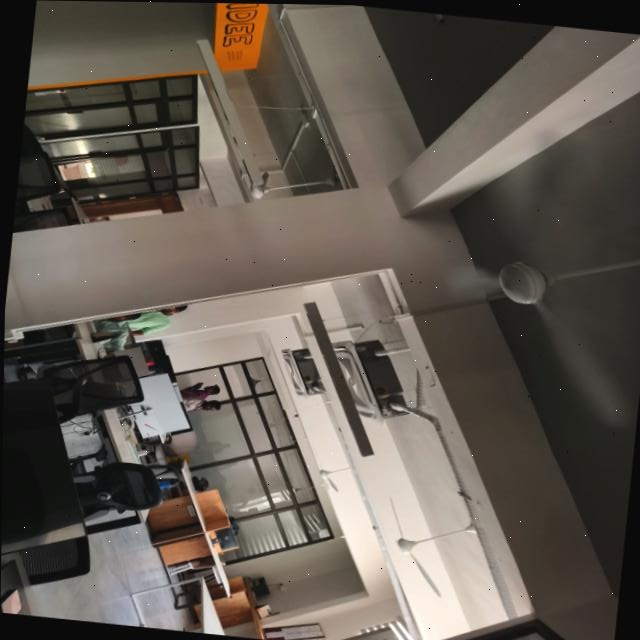fluorescent tube: (277, 298, 395, 464), (176, 34, 284, 194)
